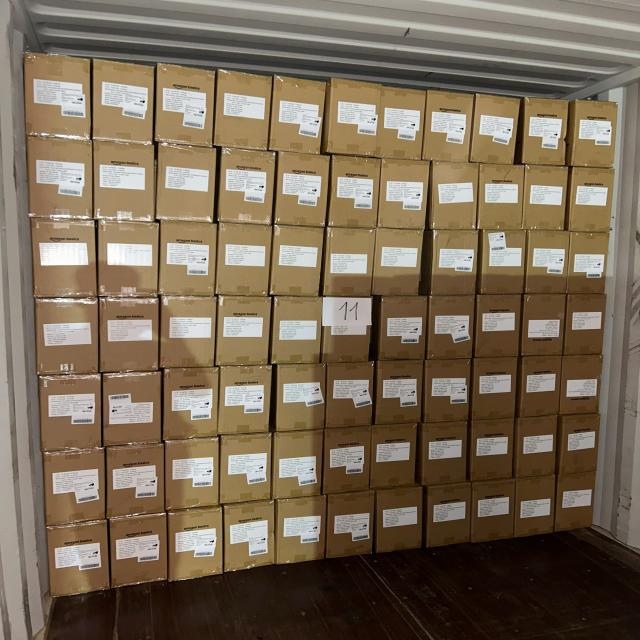Carton: (25, 54, 93, 144), (28, 138, 96, 220), (31, 220, 98, 299), (91, 56, 152, 142), (91, 140, 154, 222), (35, 296, 100, 375), (155, 61, 213, 146), (38, 376, 102, 452), (155, 142, 215, 223), (43, 449, 105, 526), (99, 222, 160, 298), (48, 525, 109, 600), (102, 373, 162, 449), (103, 295, 162, 372), (213, 71, 268, 152), (218, 146, 274, 225), (108, 442, 166, 518), (110, 516, 167, 592), (327, 79, 380, 160), (158, 223, 215, 298), (270, 76, 324, 155), (169, 511, 225, 584), (159, 298, 215, 370), (165, 368, 220, 440), (168, 436, 222, 509), (277, 150, 328, 227), (217, 223, 270, 297), (216, 294, 270, 366), (217, 365, 270, 436), (272, 226, 324, 298), (329, 156, 379, 230), (218, 434, 270, 505), (222, 501, 273, 571), (377, 158, 426, 230), (473, 92, 521, 165), (272, 430, 322, 500), (423, 91, 470, 165), (428, 160, 476, 232), (323, 300, 375, 366), (326, 228, 375, 298), (276, 498, 326, 566), (372, 229, 422, 297), (272, 299, 322, 367), (275, 364, 325, 432), (379, 88, 422, 162), (428, 231, 476, 297), (328, 363, 375, 430), (478, 164, 524, 232), (327, 494, 374, 560), (325, 428, 372, 494), (525, 97, 569, 166), (569, 100, 614, 167), (374, 488, 421, 552), (422, 361, 469, 424), (426, 297, 472, 361), (378, 297, 424, 361), (374, 362, 420, 426), (479, 232, 525, 296), (421, 425, 467, 488), (567, 168, 612, 232), (370, 423, 414, 488), (475, 296, 520, 359), (473, 360, 518, 422), (426, 485, 470, 548), (526, 167, 569, 231), (527, 232, 570, 296), (524, 296, 568, 358), (470, 419, 514, 481), (472, 480, 514, 543), (561, 352, 603, 414), (518, 415, 560, 477), (567, 232, 608, 295), (559, 412, 601, 473), (565, 292, 605, 354), (523, 354, 563, 416), (518, 475, 558, 536), (556, 474, 595, 534)
